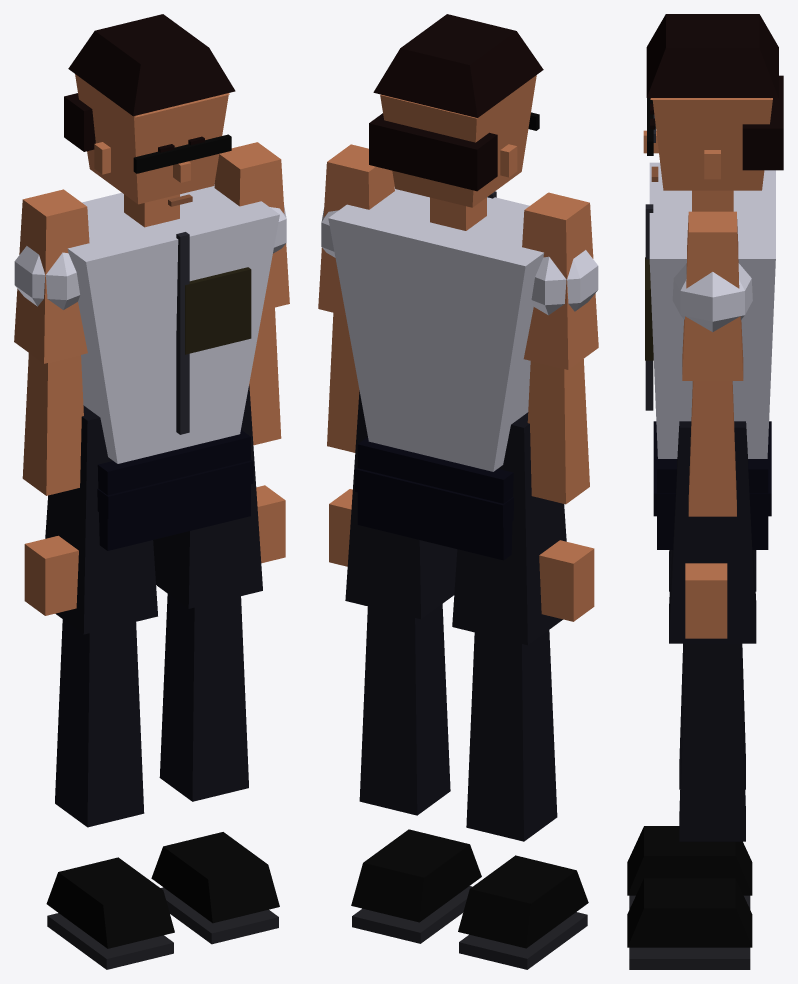
The model's file is npc_office_worker_male.glb.
The picture shows the model from 3 angles, left to right: view 1: azimuth 30°, elevation 25°; view 2: azimuth 150°, elevation 25°; view 3: azimuth 270°, elevation 25°; orthographic projection.
Parts seen in each view (by area): view 1: torso, head, lowerLegL, lowerLegR, hips, foreArmR, upperLegR, upperArmR, footR, footL, upperLegL, foreArmL (+1 smaller); view 2: torso, head, lowerLegL, lowerLegR, hips, upperLegR, foreArmR, upperArmR, footR, footL, upperLegL, upperArmL (+1 smaller); view 3: head, torso, lowerLegL, footL, upperArmL, upperLegL, foreArmL, footR, hips, lowerLegR.
Boxes of the visible parts, x1,y1,x2,y2 form: torso: [67, 184, 279, 463]; head: [64, 14, 235, 206]; lowerLegL: [159, 594, 248, 801]; lowerLegR: [55, 619, 144, 827]; hips: [97, 430, 253, 550]; foreArmR: [22, 353, 83, 615]; upperLegR: [45, 405, 157, 634]; upperArmR: [14, 189, 89, 363]; footR: [46, 857, 174, 969]; footL: [151, 832, 279, 944]; upperLegL: [153, 384, 262, 608]; foreArmL: [249, 307, 285, 563]; torso: [328, 187, 543, 471]; head: [369, 14, 543, 207]; lowerLegL: [359, 604, 450, 815]; lowerLegR: [466, 630, 557, 841]; hips: [355, 437, 513, 560]; upperLegR: [452, 412, 566, 645]; foreArmR: [527, 359, 594, 621]; upperArmR: [522, 192, 598, 369]; footR: [458, 855, 588, 969]; footL: [351, 829, 481, 943]; upperLegL: [345, 390, 457, 619]; upperArmL: [318, 144, 394, 315]; head: [643, 14, 783, 190]; torso: [645, 162, 775, 458]; lowerLegL: [679, 643, 745, 841]; footL: [627, 878, 752, 969]; upperArmL: [672, 211, 752, 380]; upperLegL: [669, 421, 756, 643]; foreArmL: [685, 381, 736, 638]; footR: [627, 826, 752, 909]; hips: [653, 421, 771, 549]; lowerLegR: [679, 643, 745, 789].
Bounding box in the file's own units: 0.551 × 1.78 × 0.2809.
